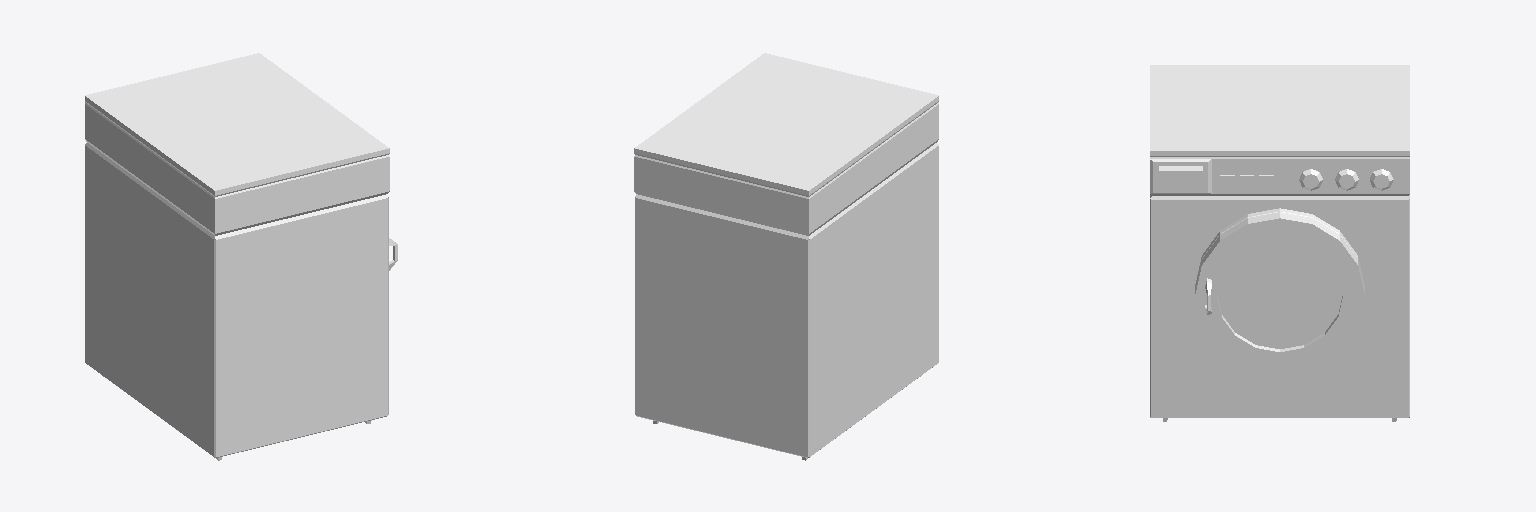
Rendered from washer.obj.
3 views of the same model, side by side, from view 1: azimuth 30°, elevation 25°; view 2: azimuth 150°, elevation 25°; view 3: azimuth 270°, elevation 25° (orthographic).
Visible parts, largest first — view 1: washer; view 2: washer; view 3: washer.
Part boxes in pixels (bbox=[...]): washer: bbox=[85, 53, 397, 460]; washer: bbox=[634, 53, 938, 460]; washer: bbox=[1150, 65, 1409, 421].
Bounding box in the file's own units: 166 × 207 × 176.